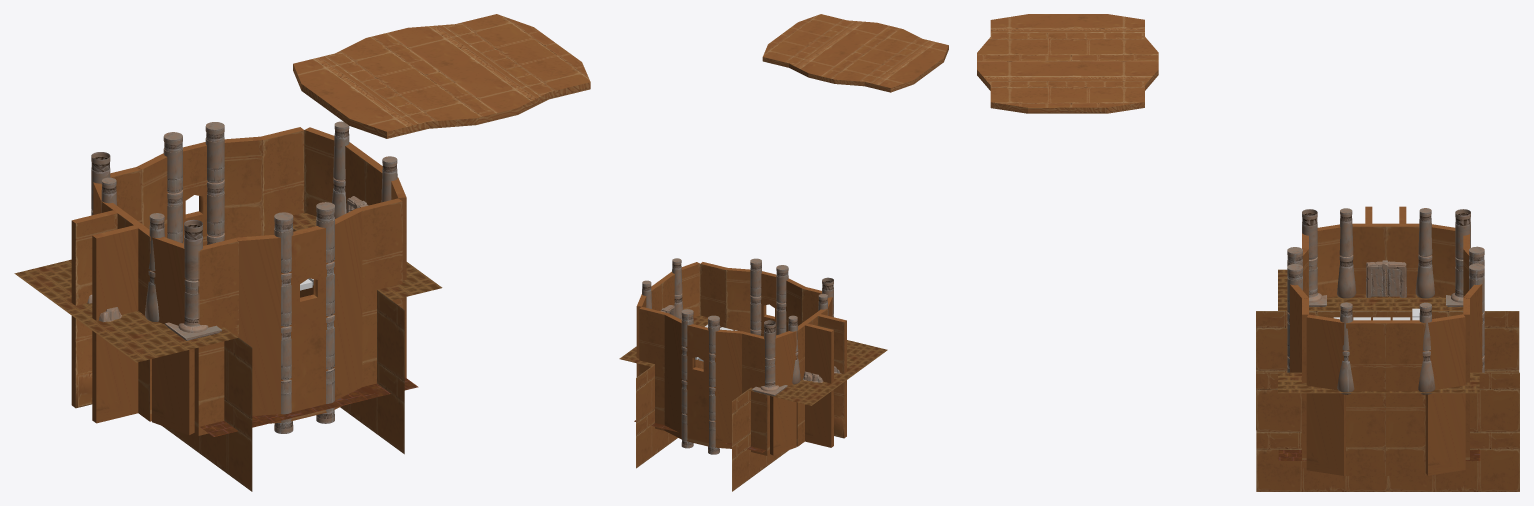
3 views of the same model, side by side, from view 1: azimuth 30°, elevation 25°; view 2: azimuth 150°, elevation 25°; view 3: azimuth 270°, elevation 25° (orthographic). The views are drawn at different scales.
Parts seen in each view (by area): view 1: stage2_070, stage2_061, stage2_035, stage2_032, stage2_036, stage2_038, stage2_034, stage2_033, stage2_062, stage2_044, stage2_040, stage2_026 (+24 smaller); view 2: stage2_070, stage2_062, stage2_043, stage2_042, stage2_041, stage2_039, stage2_044, stage2_040, stage2_061, stage2_034, stage2_033, stage2_025 (+20 smaller); view 3: stage2_070, stage2_060, stage2_031, stage2_045, stage2_023, stage2_024, stage2_037, stage2_028, stage2_058, stage2_021, stage2_029, stage2_041 (+17 smaller).
Boxes of the visible parts, x1=… form: stage2_070: x1=293, y1=14, x2=590, y2=138; stage2_061: x1=92, y1=225, x2=138, y2=423; stage2_035: x1=236, y1=235, x2=283, y2=423; stage2_032: x1=289, y1=226, x2=328, y2=421; stage2_036: x1=194, y1=238, x2=238, y2=435; stage2_038: x1=152, y1=237, x2=194, y2=435; stage2_034: x1=333, y1=208, x2=362, y2=409; stage2_033: x1=357, y1=198, x2=402, y2=386; stage2_062: x1=71, y1=210, x2=117, y2=408; stage2_044: x1=224, y1=136, x2=262, y2=240; stage2_040: x1=261, y1=127, x2=304, y2=235; stage2_026: x1=172, y1=399, x2=252, y2=491; stage2_070: x1=762, y1=14, x2=948, y2=92; stage2_062: x1=805, y1=323, x2=833, y2=447; stage2_043: x1=714, y1=329, x2=743, y2=448; stage2_042: x1=686, y1=324, x2=710, y2=446; stage2_041: x1=770, y1=331, x2=796, y2=455; stage2_039: x1=742, y1=331, x2=769, y2=455; stage2_044: x1=664, y1=313, x2=682, y2=439; stage2_040: x1=639, y1=307, x2=667, y2=430; stage2_061: x1=818, y1=314, x2=846, y2=438; stage2_034: x1=726, y1=268, x2=750, y2=333; stage2_033: x1=700, y1=262, x2=727, y2=327; stage2_025: x1=732, y1=433, x2=781, y2=491; stage2_070: x1=977, y1=14, x2=1158, y2=113; stage2_060: x1=1346, y1=320, x2=1425, y2=475; stage2_031: x1=1306, y1=314, x2=1345, y2=475; stage2_045: x1=1425, y1=314, x2=1465, y2=475; stage2_023: x1=1388, y1=432, x2=1519, y2=491; stage2_024: x1=1256, y1=432, x2=1388, y2=491; stage2_037: x1=1352, y1=223, x2=1419, y2=294; stage2_028: x1=1470, y1=372, x2=1519, y2=432; stage2_058: x1=1387, y1=311, x2=1519, y2=370; stage2_021: x1=1256, y1=311, x2=1387, y2=370; stage2_029: x1=1256, y1=372, x2=1301, y2=432; stage2_041: x1=1431, y1=224, x2=1455, y2=297.
Bounding box in the file's own units: 2951 × 4451 × 5474.
